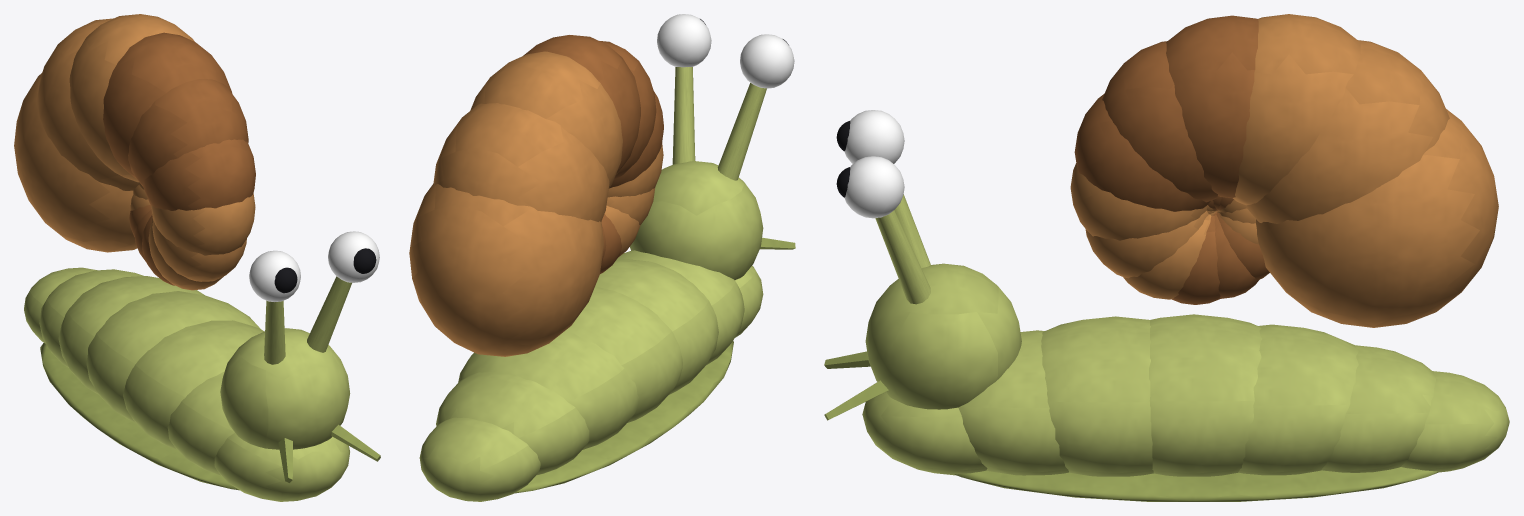
Rendered from caracol.gltf.
The picture shows the model from 3 angles, left to right: view 1: azimuth 30°, elevation 25°; view 2: azimuth 150°, elevation 25°; view 3: azimuth 270°, elevation 25°; orthographic projection. The views are drawn at different scales.
Parts seen in each view (by area): view 1: caracol; view 2: caracol; view 3: caracol.
Boxes of the visible parts, x1,y1,x2,y2 form: caracol: (14, 14, 380, 501); caracol: (409, 14, 795, 501); caracol: (824, 14, 1509, 501).
Bounding box in the file's own units: 0.3 × 0.629 × 0.877.
Materials: 6 (4 with a texture image).
